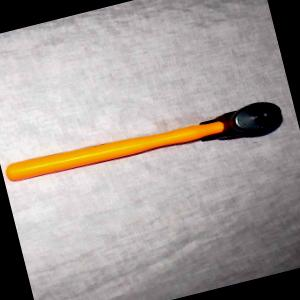martelo: (3, 96, 284, 194)
